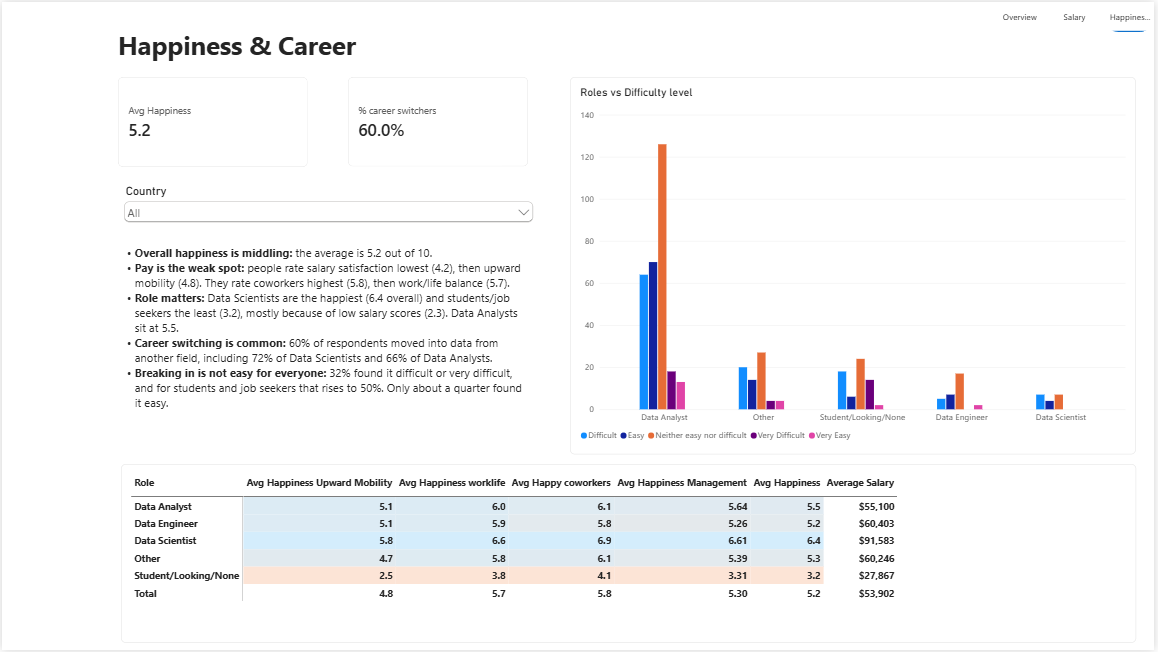

What the dashboard file says about the page in this screenshot:
{"tool":"powerbi","page":{"name":"Happiness & Career","canvas":[1920,1080],"ordinal":2},"visuals":[{"type":"textbox","box":[193.3,41.7,1726.7,101.7],"z":0},{"type":"slicer","fields":{"Values":["Data Professional Survey.Country"]},"box":[198.3,303.3,691.7,86.7],"z":1000},{"type":"cardVisual","fields":{"Data":["Measures (2).Avg Happiness"]},"box":[193.3,125,316.7,150],"z":2000},{"type":"cardVisual","fields":{"Data":["Measures (2).% career switchers"]},"box":[576.7,125,300.3,149.5],"z":3000},{"type":"pageNavigator","box":[1655,0,265,50],"z":4000},{"type":"pivotTable","fields":{"Rows":["Data Professional Survey.Role"],"Values":["Measures (2).Avg Happiness Upward Mobility","Measures (2).Avg Happiness worklife","Measures (2).Avh Happy cowerkers","Measures (2).Avg Happines Management","Measures (2).Avg Happiness","Measures (2).Average Salary"]},"box":[198.3,770,1691.7,298.3],"z":5000},{"type":"clusteredColumnChart","title":"Roles vs Difficulty level ","fields":{"Category":["Data Professional Survey.Role"],"Series":["Data Professional Survey.Difficulty-level"],"Y":["CountNonNull(Data Professional Survey.Role)"]},"box":[946.7,125,942.6,628.9],"z":6000},{"type":"textbox","box":[193.3,405,683.3,331.7],"z":6001}]}

Visuals, with their boxes on the page's 1920x1080 design canvas (x1, y1, x2, y2). These are canvas units, not pixel positions in the 1158x652 screenshot, which may show the page scaled, cropped or inside an application window:
textbox: <region>193, 42, 1920, 143</region>
slicer - Data Professional Survey.Country: <region>198, 303, 890, 390</region>
cardVisual - Measures (2).Avg Happiness: <region>193, 125, 510, 275</region>
cardVisual - Measures (2).% career switchers: <region>577, 125, 877, 274</region>
pageNavigator: <region>1655, 0, 1920, 50</region>
pivotTable - Data Professional Survey.Role x Measures (2).Avg Happiness Upward Mobility: <region>198, 770, 1890, 1068</region>
"Roles vs Difficulty level " clusteredColumnChart: <region>947, 125, 1889, 754</region>
textbox: <region>193, 405, 877, 737</region>
